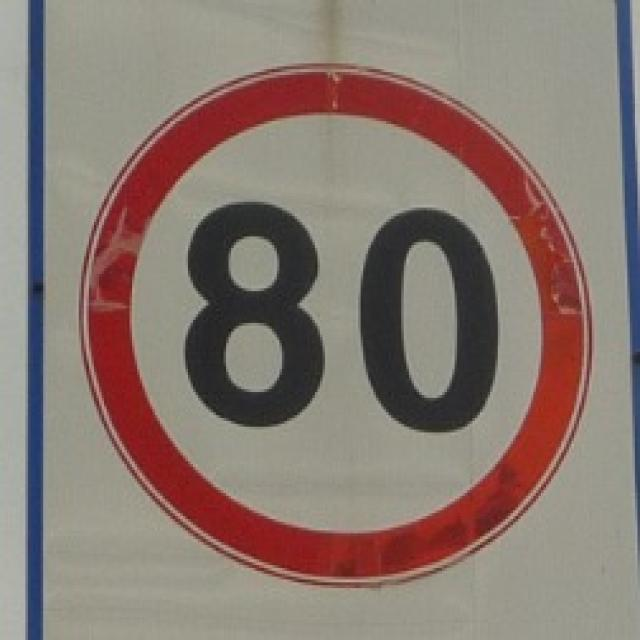Speed Limit -80-: (181, 200, 505, 434)
